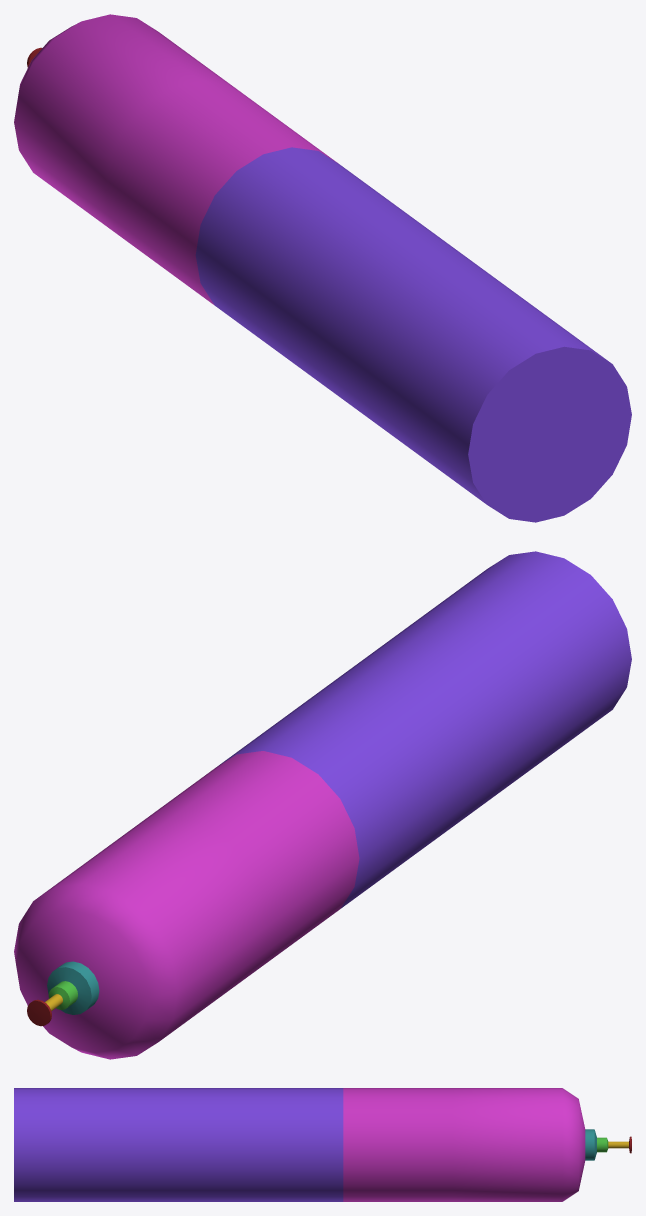
File: Cannister2.FBX
3 renders of one model, top to bottom at view 1: azimuth 30°, elevation 25°; view 2: azimuth 150°, elevation 25°; view 3: azimuth 270°, elevation 25°, orthographic. The views are drawn at different scales.
Visible parts, largest first — view 1: Cylinder001; view 2: Cylinder001; view 3: Cylinder001.
Part boxes in pixels (x1,y1,x2,y2): Cylinder001: (14, 14, 631, 522); Cylinder001: (14, 551, 631, 1059); Cylinder001: (14, 1088, 631, 1201).
Bounding box in the file's own units: 500 × 492 × 2703.
